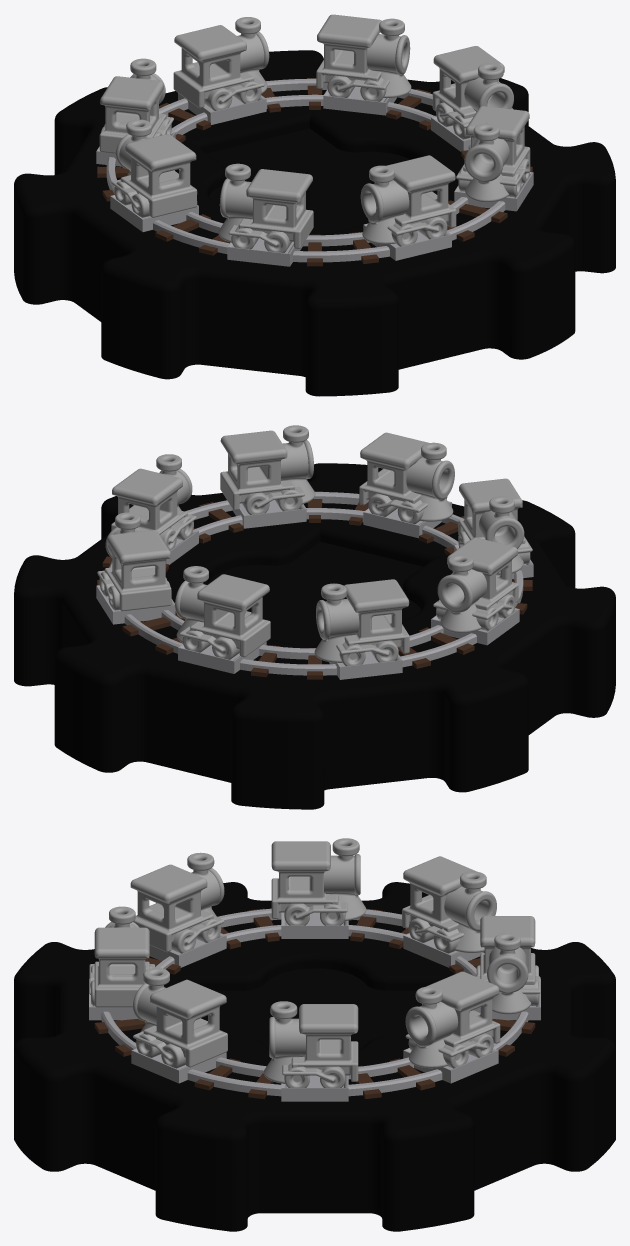
The model's file is Train Case & Hub Animation2.compressed.glb.
The picture shows the model from 3 angles, top to bottom: view 1: azimuth 30°, elevation 25°; view 2: azimuth 150°, elevation 25°; view 3: azimuth 270°, elevation 25°; orthographic projection. The views are drawn at different scales.
Size of the model in its own units: 0.1252 by 0.0413 by 0.1252.
